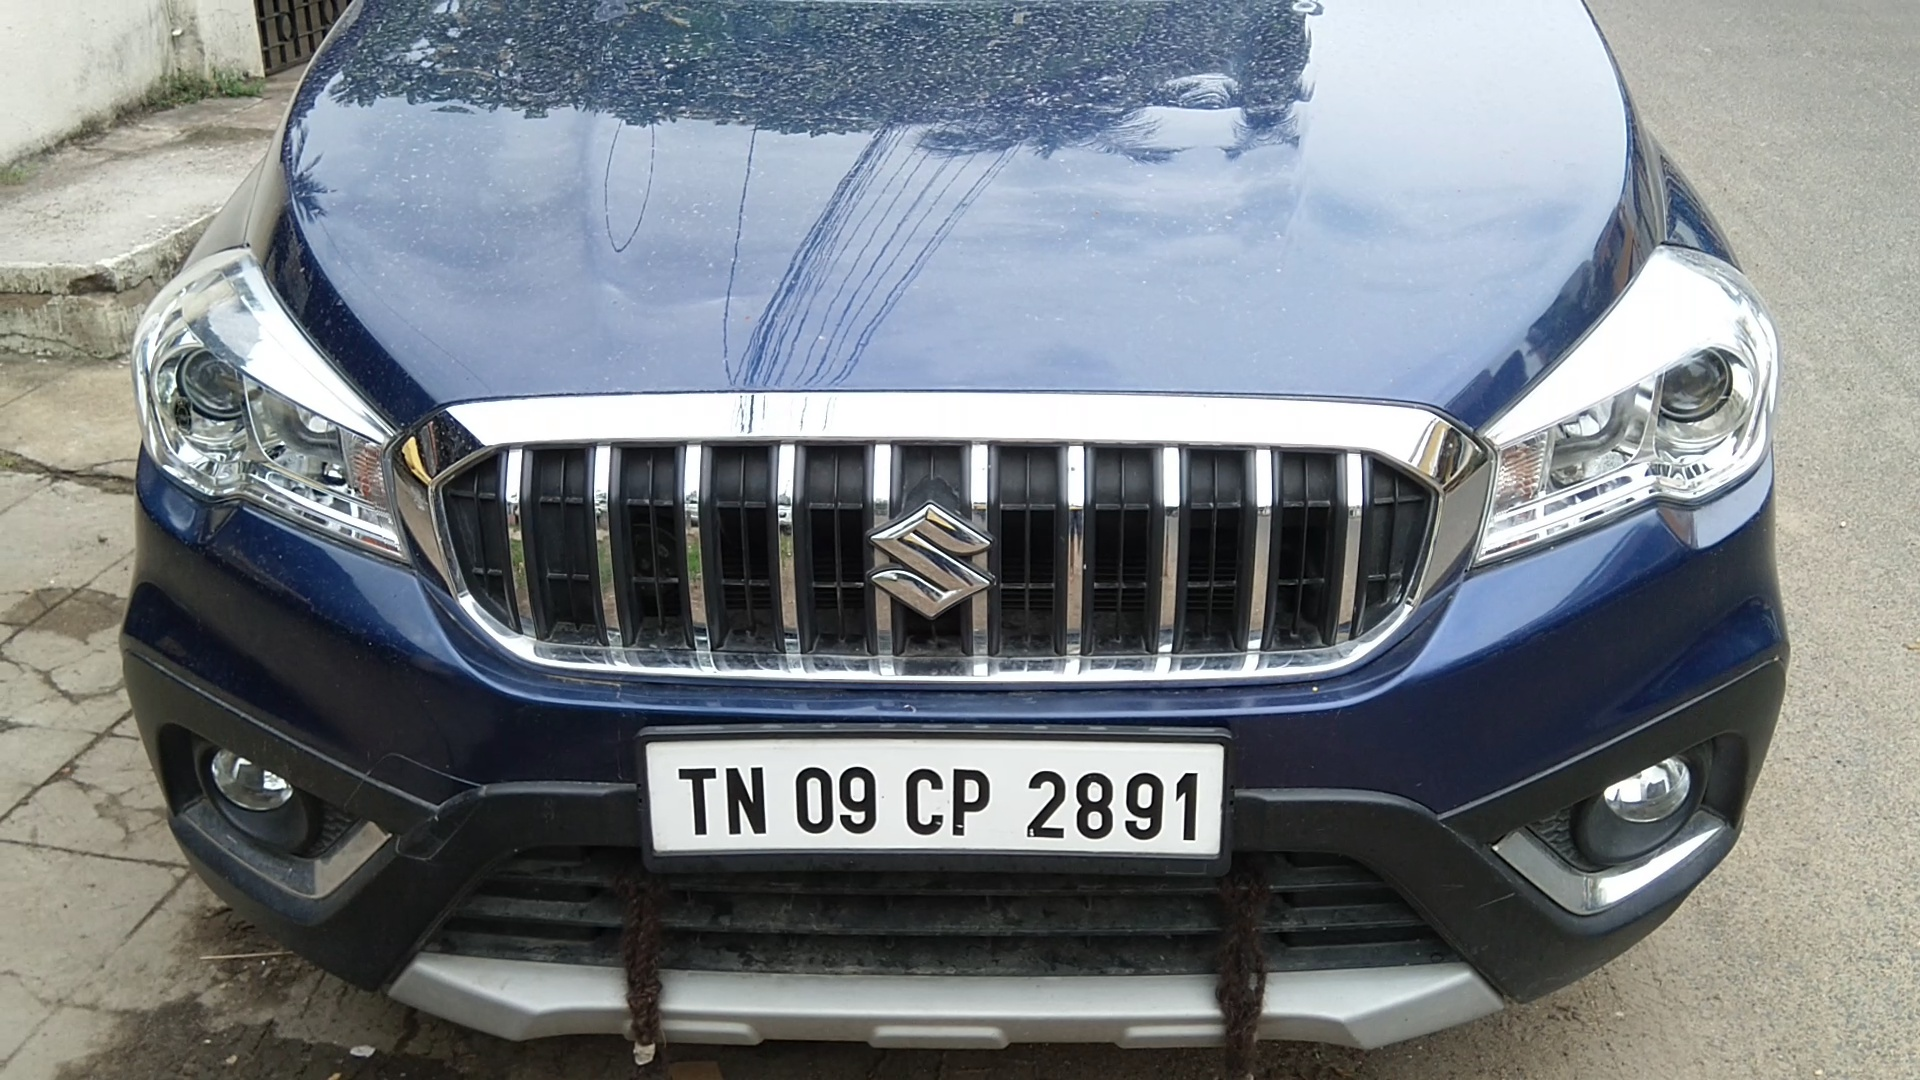front_grill: (396, 376, 1478, 709)
headlamp: (1482, 233, 1782, 582), (129, 240, 397, 568)
